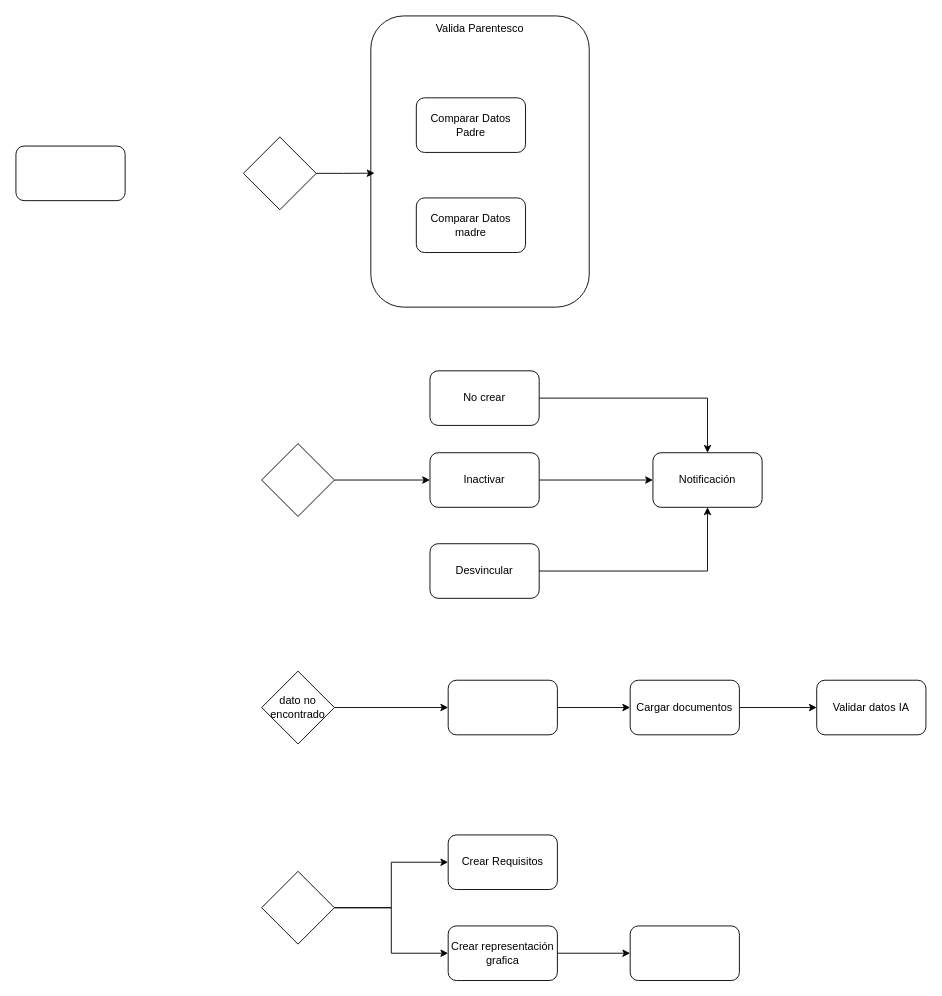
This 942x996 diagram has some shape labels left out. Each missing label, with the centre of its shape:
Consulta RNEC: the point at 70,173
DIV: the point at 684,953
Mensaje error: the point at 502,707
si <= 18 años: the point at 279,173
si respuesta cancelada: the point at 297,479
Vigente: the point at 297,907
